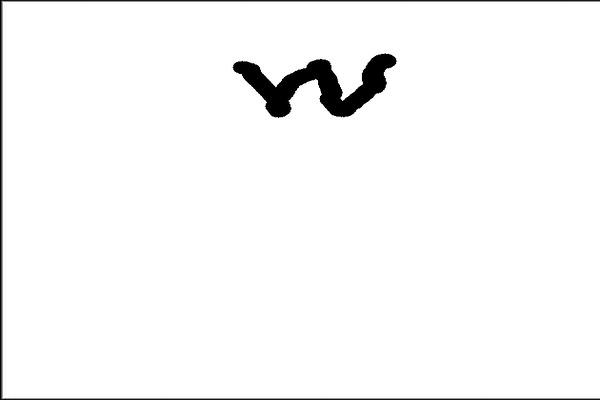w: (221, 38, 423, 142)
